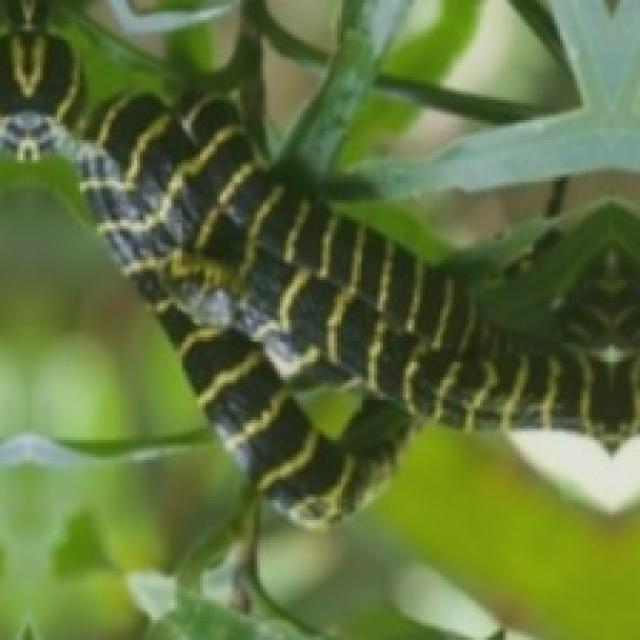mangrove cat snake: (0, 97, 637, 526)
